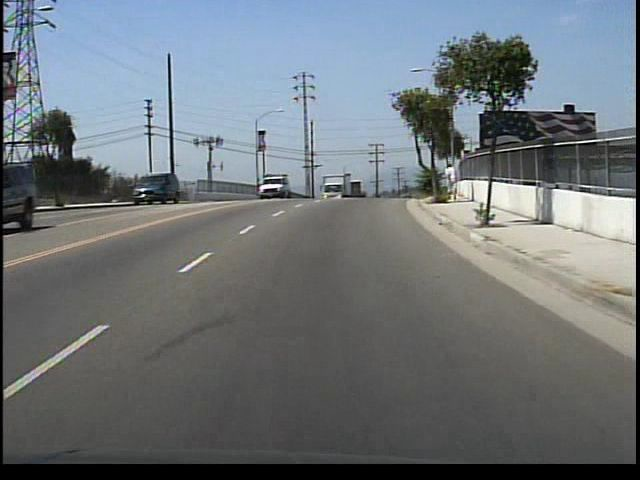person: (442, 159, 462, 203)
